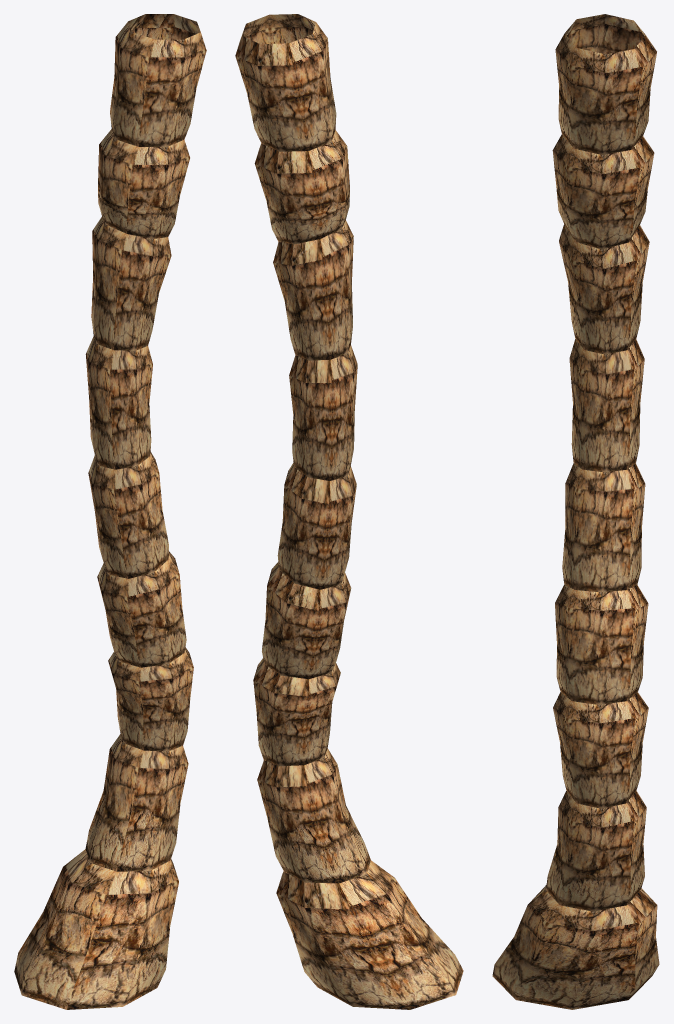
Rendered from palmtrunk.obj.
3 renders of one model, left to right at view 1: azimuth 30°, elevation 25°; view 2: azimuth 150°, elevation 25°; view 3: azimuth 270°, elevation 25°, orthographic. The views are drawn at different scales.
Parts seen in each view (by area): view 1: tree_Circle; view 2: tree_Circle; view 3: tree_Circle.
Part boxes in pixels (x1,y1,x2,y2): tree_Circle: [14, 14, 206, 1009]; tree_Circle: [235, 14, 463, 1009]; tree_Circle: [492, 14, 659, 1009].
Size of the model in its own units: 1.9 by 8.53 by 1.3.
